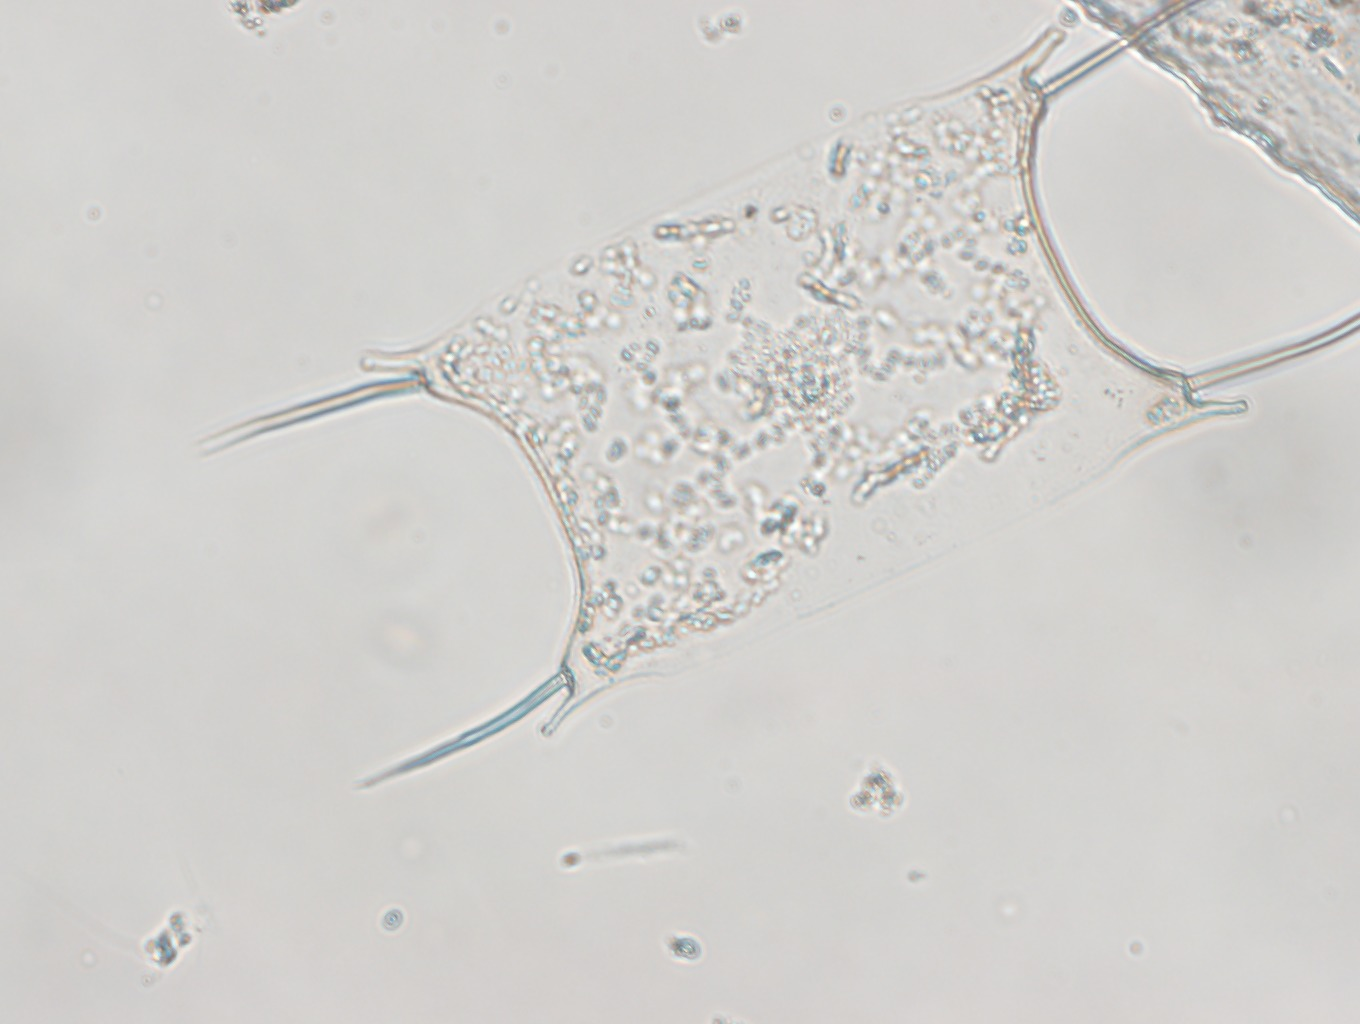biddulphia: (135, 1, 1360, 791)
